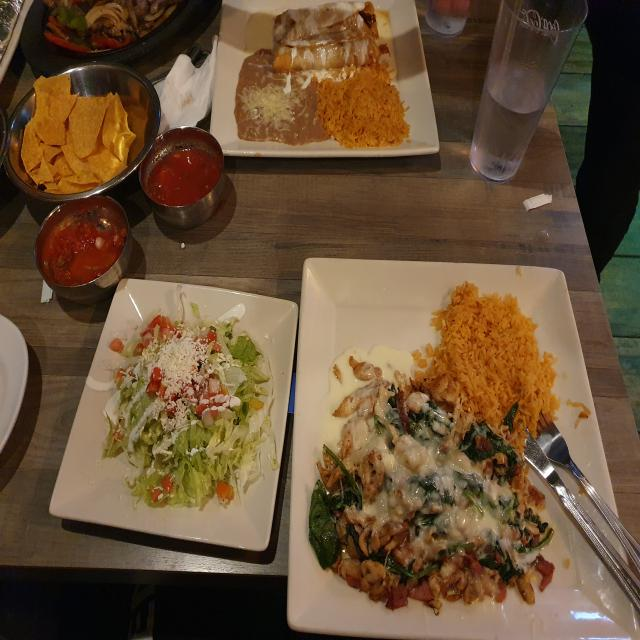Bowl: (2, 64, 161, 204), (34, 195, 133, 306), (138, 126, 225, 230)
Cup: (469, 0, 588, 183)
Plate: (286, 256, 639, 639), (49, 277, 298, 552), (209, 0, 439, 158), (0, 313, 29, 454)
